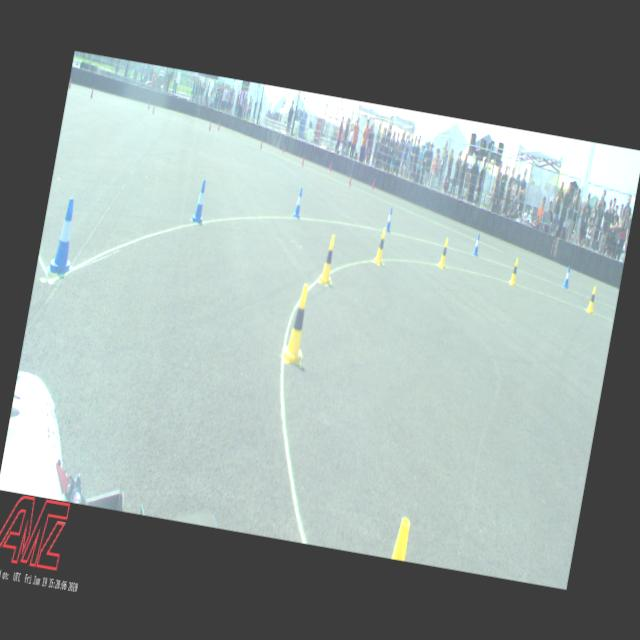blue_cone: (48, 196, 82, 274), (192, 179, 209, 223), (292, 188, 304, 218), (384, 207, 394, 232), (562, 264, 572, 288), (472, 233, 481, 256)
yellow_cone: (282, 282, 314, 364), (318, 233, 338, 284), (374, 227, 388, 265), (508, 256, 520, 286), (438, 238, 450, 268), (586, 286, 597, 312)
